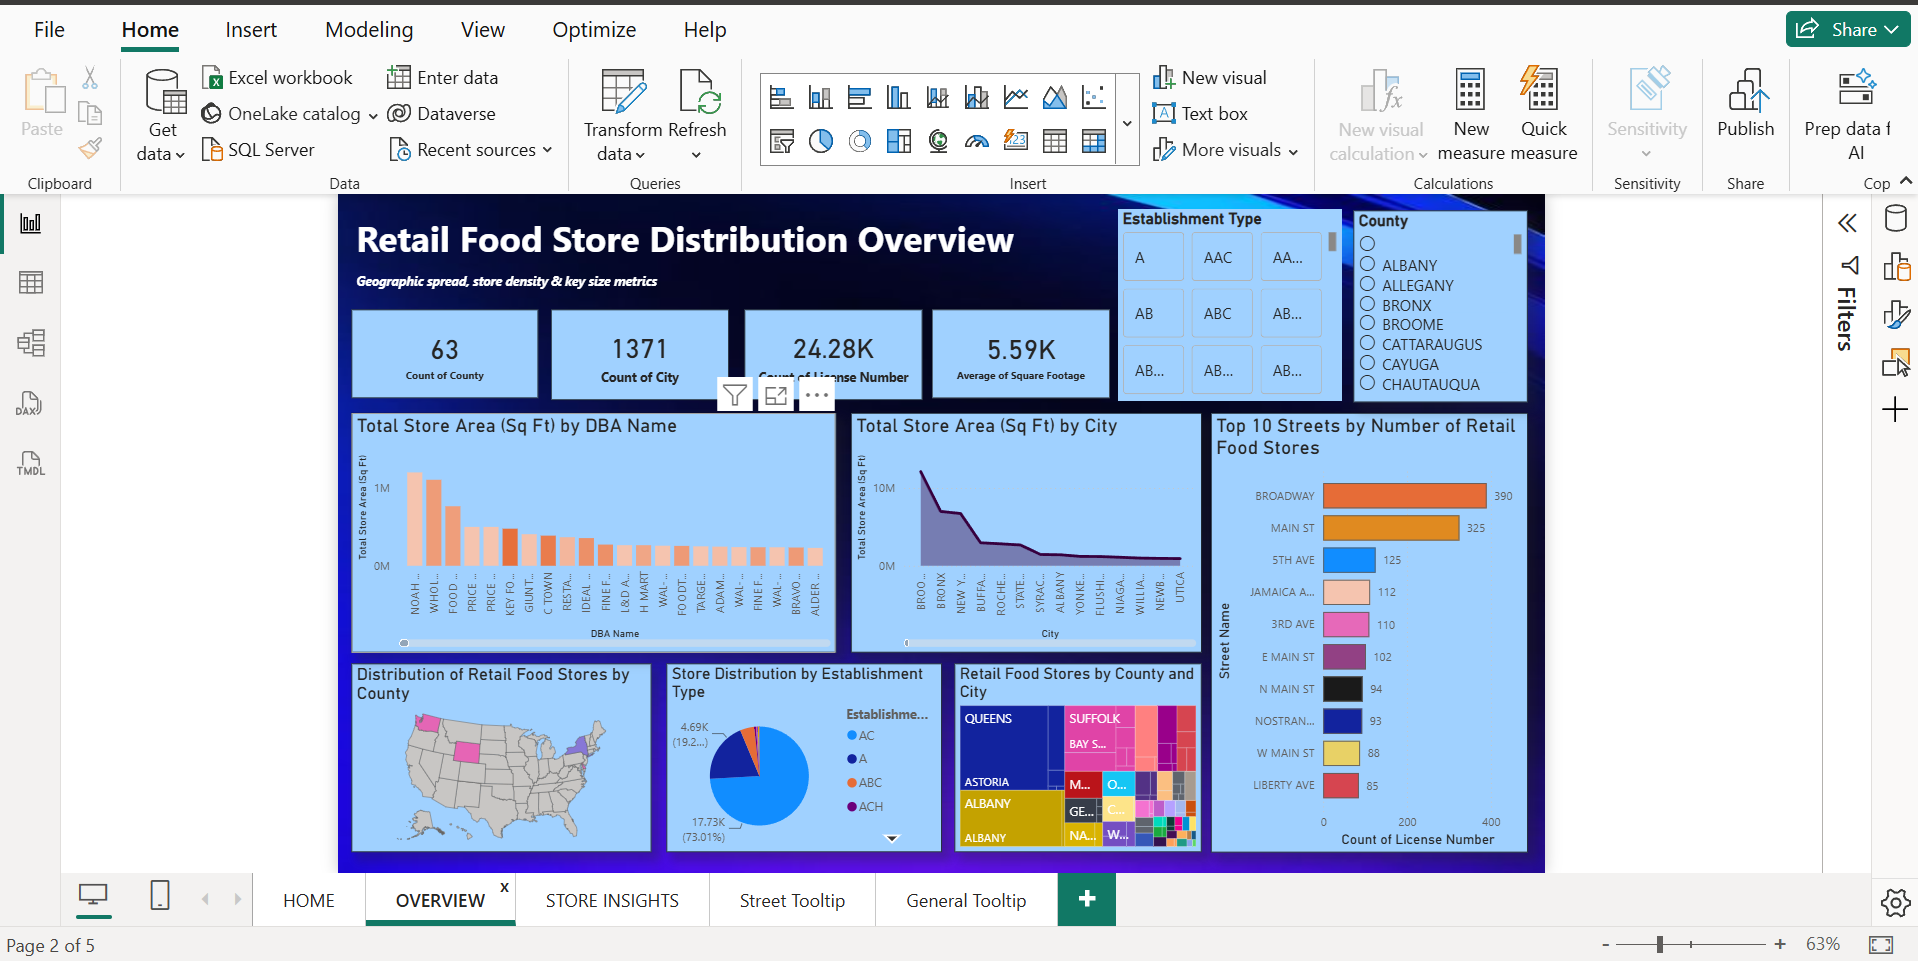

This screenshot's page, from the dashboard's own definition file:
{"tool":"powerbi","page":{"name":"OVERVIEW","canvas":[1280,720],"ordinal":1},"visuals":[{"type":"card","fields":{"Values":["CountNonNull(Retail_Food_Stores.License Number)"]},"box":[430.6,122,188.5,96.1],"z":0},{"type":"card","fields":{"Values":["Count(Retail_Food_Stores.City)"]},"box":[225.5,122,188.5,96.1],"z":1000},{"type":"card","fields":{"Values":["Avg(Retail_Food_Stores.Square Footage)"]},"box":[630.2,122,188.5,94.2],"z":2000},{"type":"card","fields":{"Values":["Count(Retail_Food_Stores.County)"]},"box":[14.8,122,197.7,94.2],"z":3000},{"type":"shapeMap","title":"Distribution of Retail Food Stores by County","fields":{"Category":["Retail_Food_Stores.County"],"Value":["CountNonNull(Retail_Food_Stores.License Number)"]},"box":[14,498,318,200],"z":4000},{"type":"areaChart","title":"Total Store Area (Sq Ft) by City","fields":{"Category":["Retail_Food_Stores.City"],"Y":["Sum(Retail_Food_Stores.Square Footage)"]},"box":[544,232,372,254],"z":5000},{"type":"clusteredColumnChart","title":"Total Store Area (Sq Ft) by DBA Name","fields":{"Category":["Retail_Food_Stores.DBA Name"],"Y":["Sum(Retail_Food_Stores.Square Footage)"]},"box":[14,232,514,254],"z":6000},{"type":"treemap","title":"Retail Food Stores by County and City","fields":{"Details":["Retail_Food_Stores.City"],"Group":["Retail_Food_Stores.County"],"Values":["Sum(Retail_Food_Stores.License Number)"]},"box":[654,498,262,200],"z":7000},{"type":"pieChart","title":"Store Distribution by Establishment Type","fields":{"Category":["Retail_Food_Stores.Establishment Type"],"Y":["CountNonNull(Retail_Food_Stores.License Number)"]},"box":[348,498,292,200],"z":8000},{"type":"barChart","title":"Top 10 Streets by Number of Retail Food Stores","fields":{"Category":["Retail_Food_Stores.Street Name"],"Y":["Count(Retail_Food_Stores.License Number)"]},"box":[925.8,232.8,336.3,465.7],"z":9000},{"type":"textbox","box":[14.8,16.6,829.7,61],"z":10000},{"type":"listSlicer","fields":{"Values":["Retail_Food_Stores.County"]},"box":[1076.8,17.5,184.5,203.6],"z":11000},{"type":"advancedSlicerVisual","fields":{"Values":["Retail_Food_Stores.Establishment Type"]},"box":[827.9,16.6,236.5,203.3],"z":12000},{"type":"textbox","box":[14.8,77.6,709.6,29.6],"z":13000}]}

Visuals, with their boxes on the page's 1280x720 design canvas (x1, y1, x2, y2). These are canvas units, not pixel positions in the 1918x961 screenshot, which may show the page scaled, cropped or inside an application window:
card - CountNonNull(Retail_Food_Stores.License Number): [431, 122, 619, 218]
card - Count(Retail_Food_Stores.City): [226, 122, 414, 218]
card - Avg(Retail_Food_Stores.Square Footage): [630, 122, 819, 216]
card - Count(Retail_Food_Stores.County): [15, 122, 212, 216]
"Distribution of Retail Food Stores by County" shapeMap: [14, 498, 332, 698]
"Total Store Area (Sq Ft) by City" areaChart: [544, 232, 916, 486]
"Total Store Area (Sq Ft) by DBA Name" clusteredColumnChart: [14, 232, 528, 486]
"Retail Food Stores by County and City" treemap: [654, 498, 916, 698]
"Store Distribution by Establishment Type" pieChart: [348, 498, 640, 698]
"Top 10 Streets by Number of Retail Food Stores" barChart: [926, 233, 1262, 698]
textbox: [15, 17, 844, 78]
listSlicer - Retail_Food_Stores.County: [1077, 18, 1261, 221]
advancedSlicerVisual - Retail_Food_Stores.Establishment Type: [828, 17, 1064, 220]
textbox: [15, 78, 724, 107]
